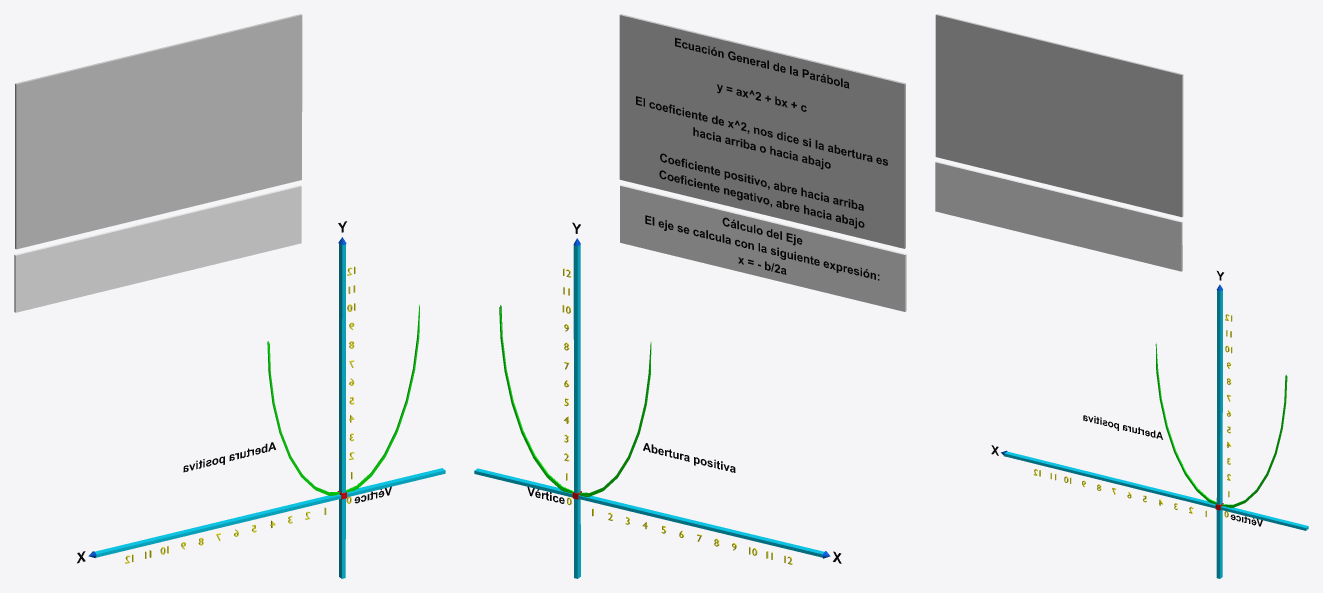
File: e-parabola.fbx
3 renders of one model, left to right at view 1: azimuth 30°, elevation 25°; view 2: azimuth 150°, elevation 25°; view 3: azimuth 330°, elevation 25°, orthographic. The views are drawn at different scales.
Parts seen in each view (by area): view 1: Cubo.004, Cubo.002, Cubo, Cubo.001, Surface.002; view 2: Cubo.004, Cubo.002, Text.030, Cubo.001, Cubo, Text.025, Surface.002; view 3: Cubo.004, Cubo.002, Cubo, Cubo.001, Surface.002.
Part boxes in pixels (x1,y1,x2,y2): Cubo.004: (15, 14, 302, 249); Cubo.002: (14, 185, 301, 312); Cubo: (95, 468, 445, 557); Cubo.001: (339, 244, 345, 578); Surface.002: (267, 304, 419, 495); Cubo.004: (619, 14, 905, 248); Cubo.002: (620, 185, 906, 311); Text.030: (636, 37, 887, 228); Cubo.001: (573, 245, 580, 578); Cubo: (474, 468, 824, 557); Text.025: (645, 215, 879, 280); Surface.002: (499, 305, 651, 496); Cubo.004: (935, 14, 1183, 217); Cubo.002: (935, 161, 1182, 271); Cubo: (1004, 451, 1308, 530); Cubo.001: (1216, 290, 1222, 578); Surface.002: (1155, 343, 1287, 507).
Bounding box in the file's own units: 485 × 619 × 8.65.
